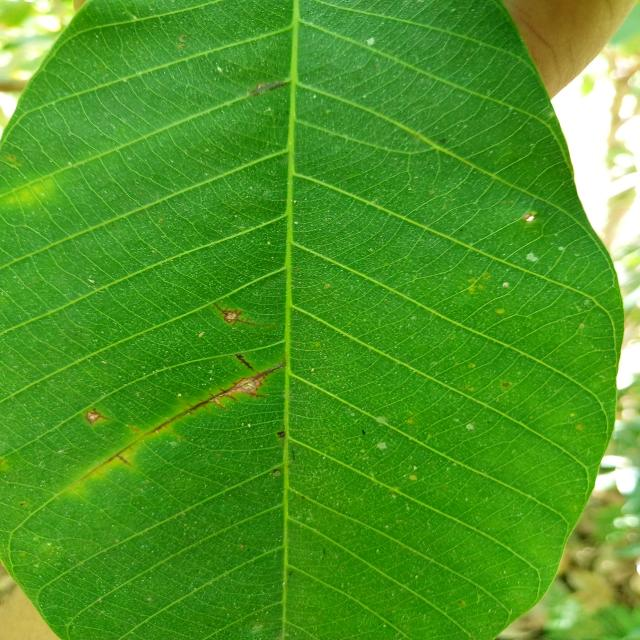Corynespora: (80, 363, 287, 478), (214, 302, 260, 327), (85, 408, 110, 426), (236, 353, 255, 371)
